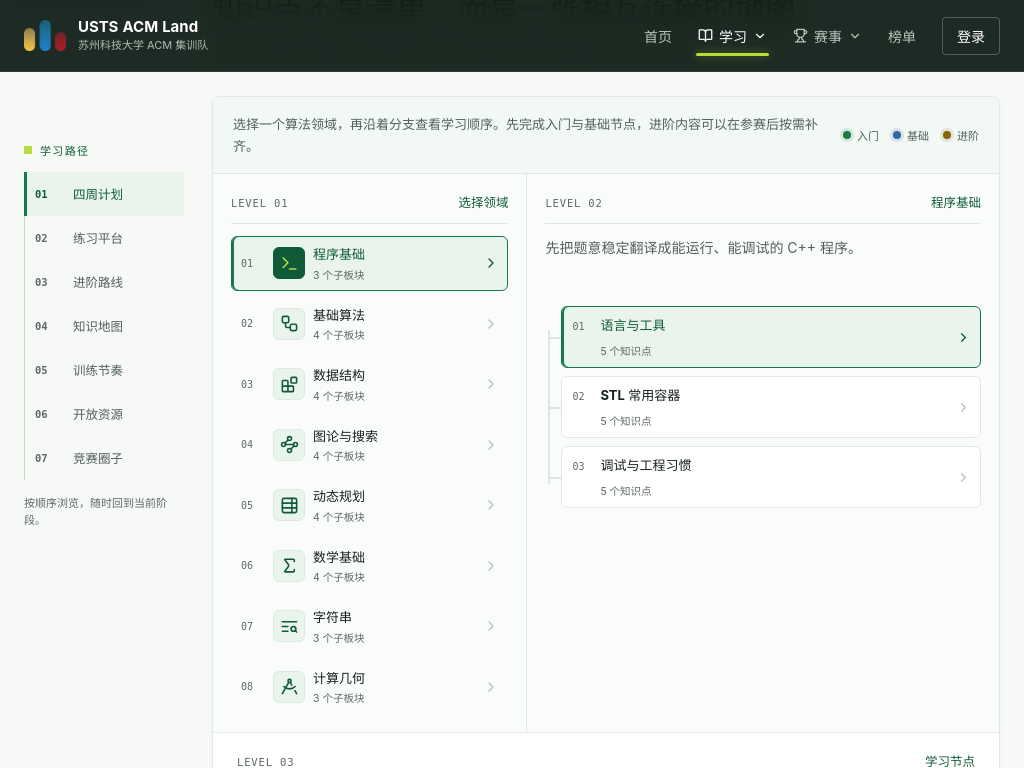
LearningPage › explores the knowledge map from a domain to its learning sequence
(page scrolled)
Expected: the list named "知识点难度说明" reads "入门 基础 进阶", [843,127,979,143]
Click the button "03 数据结构 4 个子板块" at (289, 384), box [231,357,508,412]
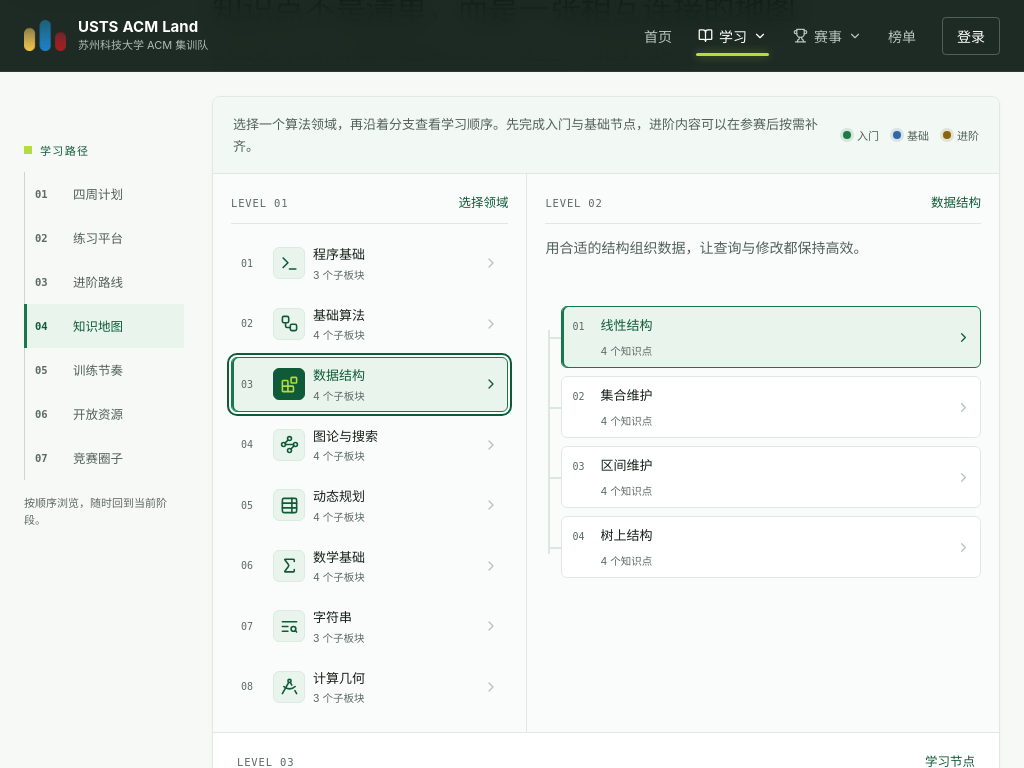
Expected: the button "01 线性结构 4 个知识点" is shown, [561,306,981,368]
Expected: the button "02 集合维护 4 个知识点" is shown, [561,376,981,438]
Expected: the button "03 区间维护 4 个知识点" is shown
Click the button "03 区间维护 4 个知识点" at (626, 465), box [561,446,981,508]
(page scrolled)
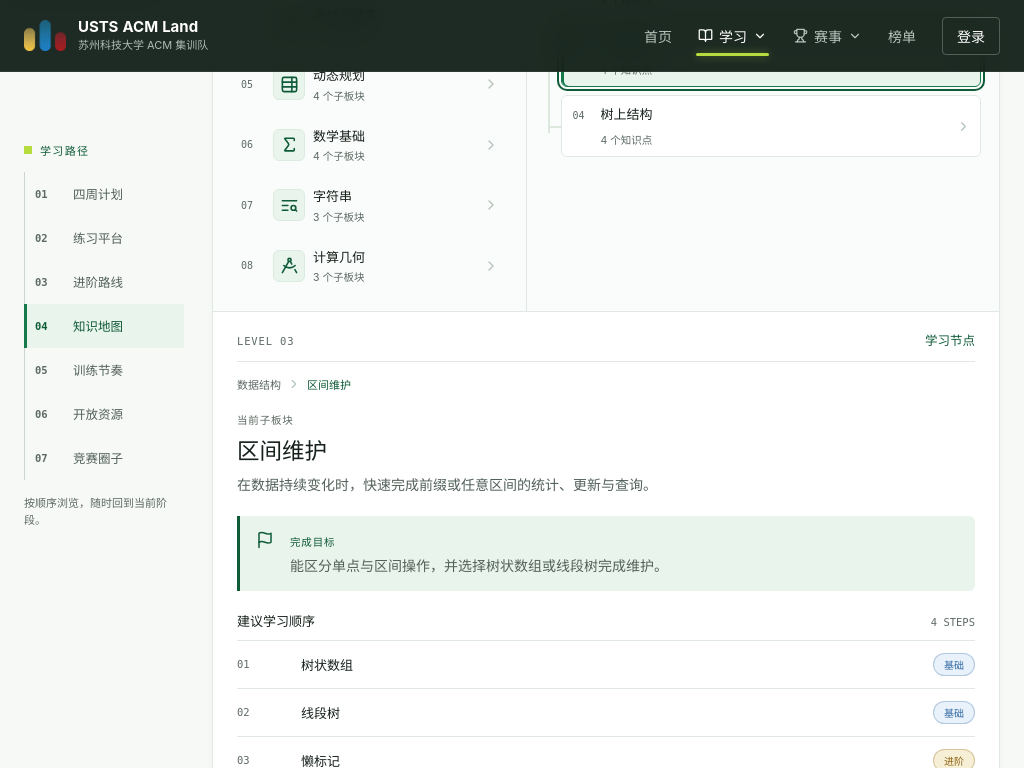
Expected: the text "树状数组" is shown, [301,657,353,673]
Expected: the text "线段树" is shown, [301,705,340,721]
Expected: the text "懒标记" is shown, [301,753,340,767]
